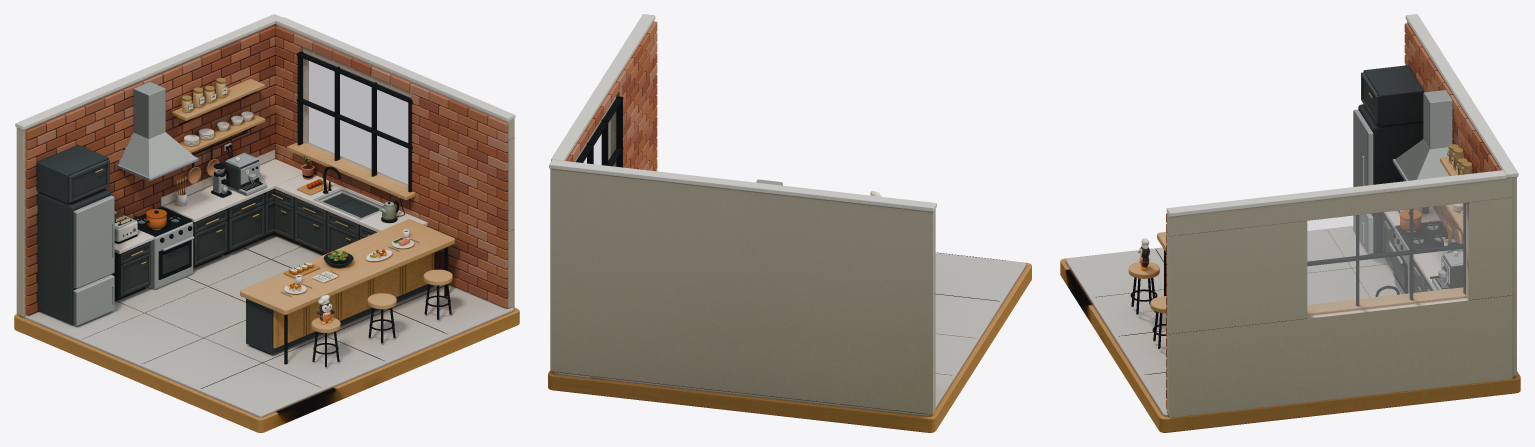
Rendered from brick-kitchen.glb.
3 renders of one model, left to right at view 1: azimuth 30°, elevation 25°; view 2: azimuth 150°, elevation 25°; view 3: azimuth 270°, elevation 25°, orthographic. The views are drawn at different scales.
Visible parts, largest first — view 1: Baked brick-kitchen architecture, Baked brick-kitchen details, Live glass and reflective metal; view 2: Baked brick-kitchen architecture, Baked brick-kitchen details; view 3: Baked brick-kitchen architecture, Live glass and reflective metal, Baked brick-kitchen details.
Boxes of the visible parts, box(x1,y1,x2,y2) form: Baked brick-kitchen architecture: box(14, 14, 519, 432); Baked brick-kitchen details: box(25, 25, 508, 367); Live glass and reflective metal: box(73, 60, 419, 326); Baked brick-kitchen architecture: box(548, 14, 1031, 432); Baked brick-kitchen details: box(566, 21, 881, 196); Baked brick-kitchen architecture: box(1060, 14, 1520, 432); Live glass and reflective metal: box(1307, 90, 1471, 316); Baked brick-kitchen details: box(1128, 23, 1500, 409).
Bounding box in the file's own units: 16.87 × 8.63 × 16.39.
9 materials, 2 textured.
